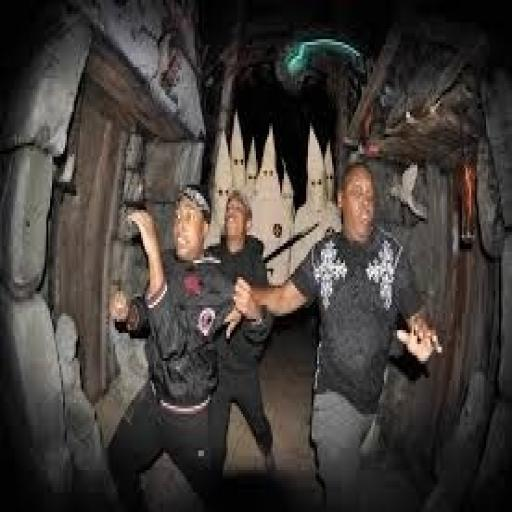running: (232, 157, 445, 509), (104, 182, 241, 509), (202, 187, 278, 487)
